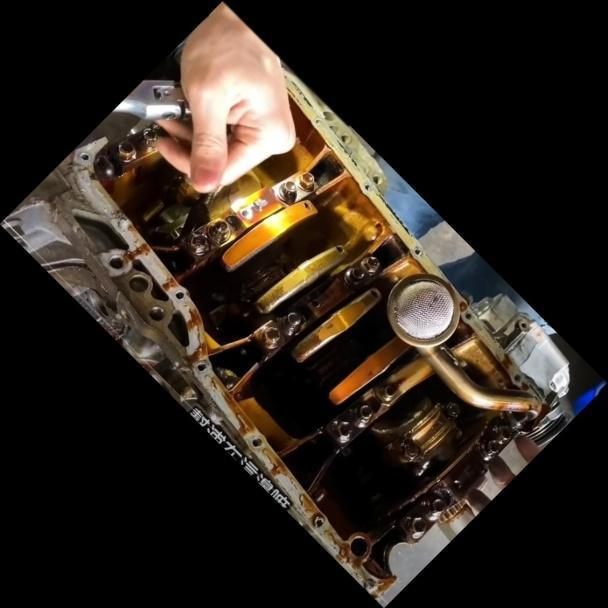hole: (515, 316, 532, 333), (248, 433, 264, 449), (310, 514, 325, 529), (77, 149, 92, 164), (172, 288, 186, 302), (411, 245, 424, 258), (510, 371, 523, 384), (194, 360, 207, 372), (312, 116, 323, 127), (361, 182, 372, 192), (463, 311, 473, 321)
